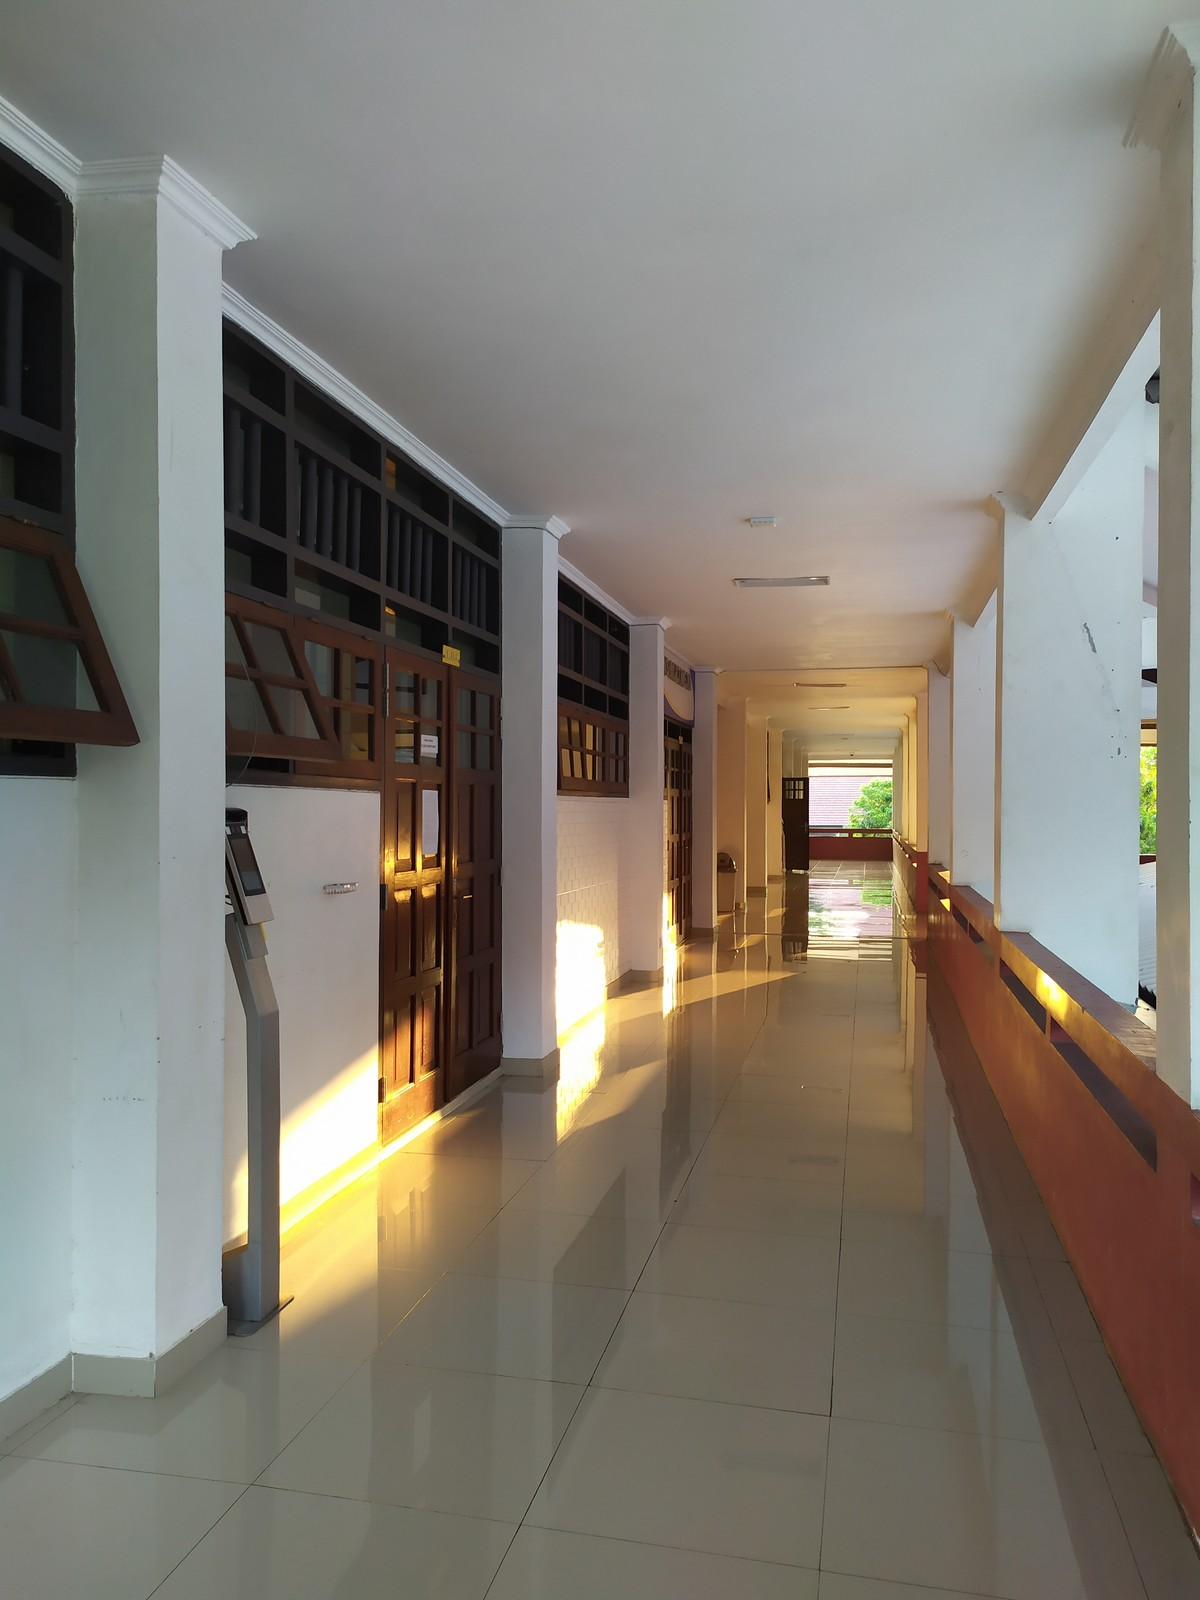concrete column: (61, 139, 236, 1403), (987, 470, 1148, 997), (489, 501, 579, 1089), (615, 603, 676, 986)
